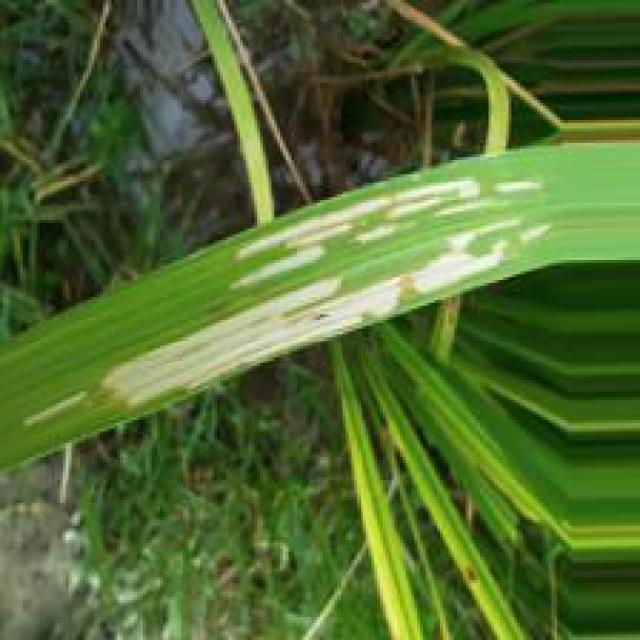Rice_Hispa: (85, 213, 515, 410), (228, 176, 506, 285)
